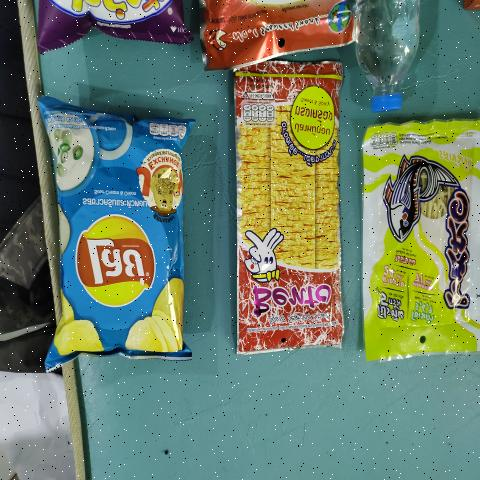bento_red: (239, 60, 336, 346)
lay_blue: (68, 126, 174, 354)
taro_yellow: (371, 123, 480, 358)
